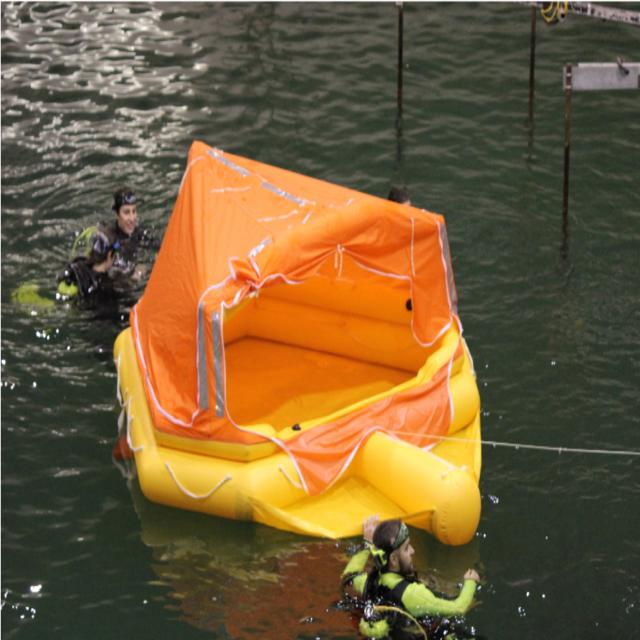Multi-person_life_raft: (112, 138, 481, 544)
